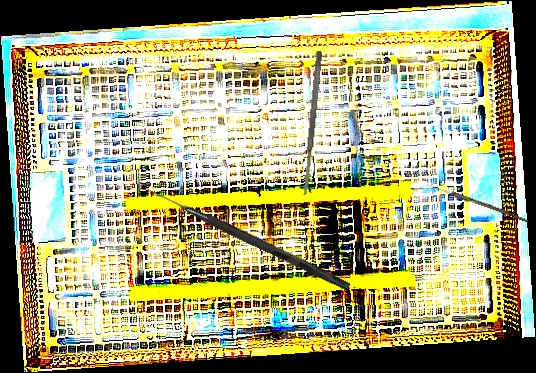Hook Surgical: (144, 186, 352, 291)
Spatula Surgical: (300, 50, 324, 196)
Surgical Spoon: (425, 182, 529, 223)
